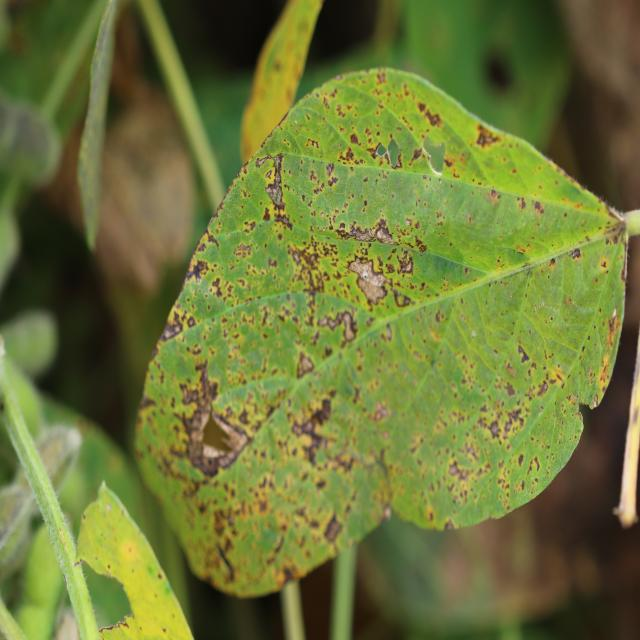Bacterial_Blight: (173, 362, 249, 479), (339, 94, 423, 168), (351, 244, 414, 303), (288, 399, 334, 467), (287, 241, 338, 300), (232, 247, 286, 294), (261, 153, 288, 216), (178, 362, 213, 410), (387, 213, 430, 252), (339, 220, 396, 248), (317, 304, 356, 342), (305, 235, 343, 271), (601, 306, 621, 365), (596, 341, 616, 394), (95, 614, 135, 638), (161, 311, 188, 341), (500, 408, 525, 438), (323, 512, 343, 542), (215, 543, 233, 576), (475, 125, 500, 148), (448, 458, 472, 480), (296, 351, 315, 378), (338, 144, 362, 165), (189, 258, 210, 282), (396, 250, 414, 276), (333, 224, 358, 242), (423, 106, 442, 127), (137, 392, 155, 412), (372, 401, 389, 422), (210, 276, 225, 298), (233, 242, 253, 258), (488, 419, 502, 439), (58, 527, 69, 550), (517, 344, 530, 363), (255, 154, 272, 168), (488, 188, 501, 204), (532, 199, 545, 215), (304, 137, 320, 149), (504, 382, 516, 397), (262, 205, 272, 222), (349, 132, 361, 146), (515, 243, 528, 255), (444, 518, 456, 531), (327, 174, 338, 188), (326, 162, 335, 178), (310, 169, 319, 184), (567, 393, 577, 406), (426, 508, 435, 522), (571, 248, 581, 259), (563, 295, 572, 306), (518, 453, 524, 468), (339, 222, 346, 231), (549, 257, 556, 266), (363, 199, 368, 207), (157, 572, 162, 579)
Soybean: (133, 68, 638, 602)
